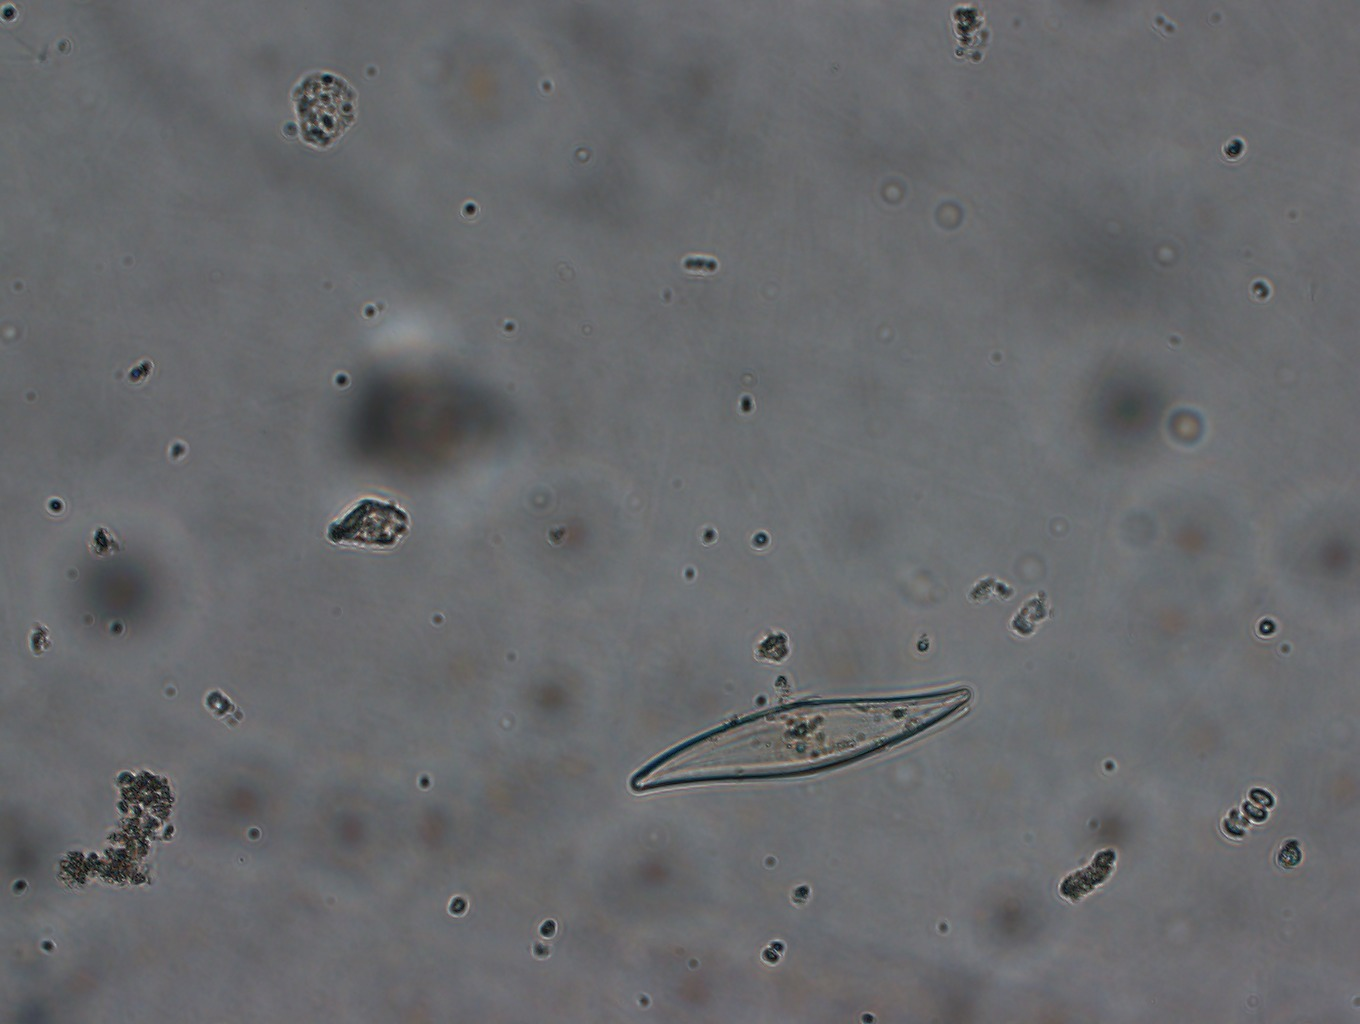pleurosigma pelagicum: (622, 680, 975, 793)
